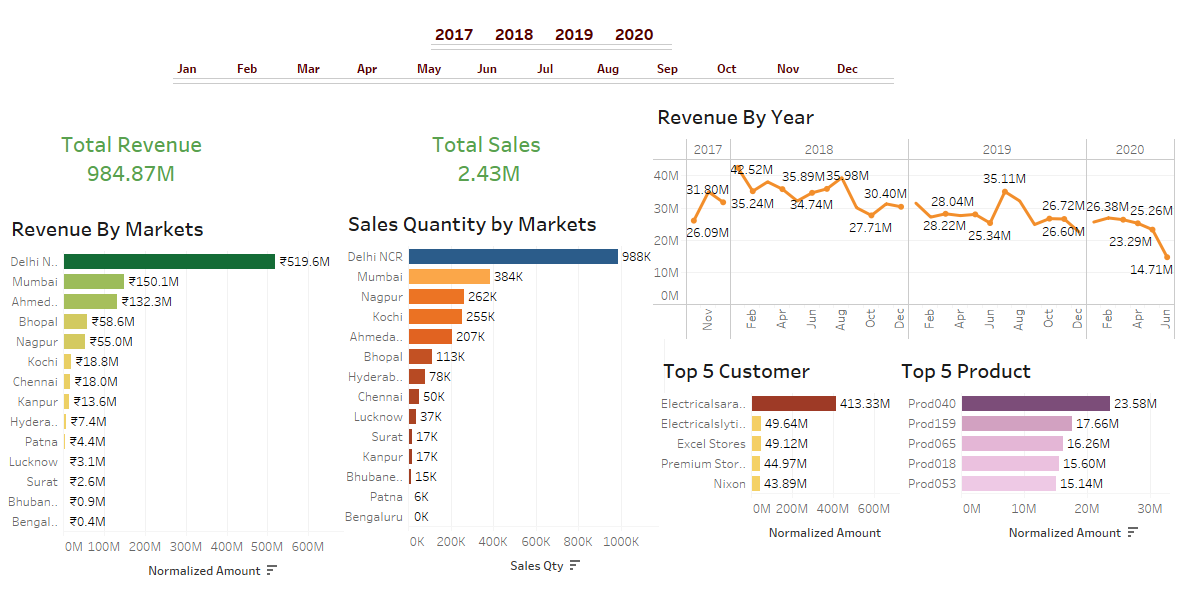

The dashboard page shown, as its layout file describes it:
{"tool":"tableau","page":{"name":"Renenue Analysis","canvas":[1200,600],"ordinal":2},"visuals":[{"type":"worksheet","title":"Year","mark":"Automatic","cols":["cy_date"],"box":[430.9,24,271.6,28]},{"type":"worksheet","title":"Month","mark":"Automatic","cols":["cy_date"],"box":[173.5,58,790.9,32]},{"type":"worksheet","title":"Revenue By Year","mark":"Line","rows":["Calculation_599823207738966016"],"cols":["cy_date","cy_date"],"box":[653,96,523,244]},{"type":"worksheet","title":"Revenue","mark":"Automatic","box":[32,130,240,58]},{"type":"worksheet","title":"Sales Quantity","mark":"Automatic","box":[427,130,189,62]},{"type":"worksheet","title":"Sales Quantity by Markets","mark":"Bar","rows":["markets_name"],"cols":["sales_qty"],"box":[343.6,203,321.8,384]},{"type":"worksheet","title":"Revenue By Markets","mark":"Automatic","rows":["markets_name"],"cols":["Calculation_599823207738966016"],"box":[6.5,208,339.3,383]}]}

Visuals, with their boxes in screenshot pixels (x1, y1, x2, y2), scaled from the page's 1200x600 canvas onto the 1200x600 screenshot:
"Year" worksheet: <bbox>431, 24, 702, 52</bbox>
"Month" worksheet: <bbox>174, 58, 964, 90</bbox>
"Revenue By Year" worksheet (Line marks): <bbox>653, 96, 1176, 340</bbox>
"Revenue" worksheet: <bbox>32, 130, 272, 188</bbox>
"Sales Quantity" worksheet: <bbox>427, 130, 616, 192</bbox>
"Sales Quantity by Markets" worksheet (Bar marks): <bbox>344, 203, 665, 587</bbox>
"Revenue By Markets" worksheet: <bbox>6, 208, 346, 591</bbox>
